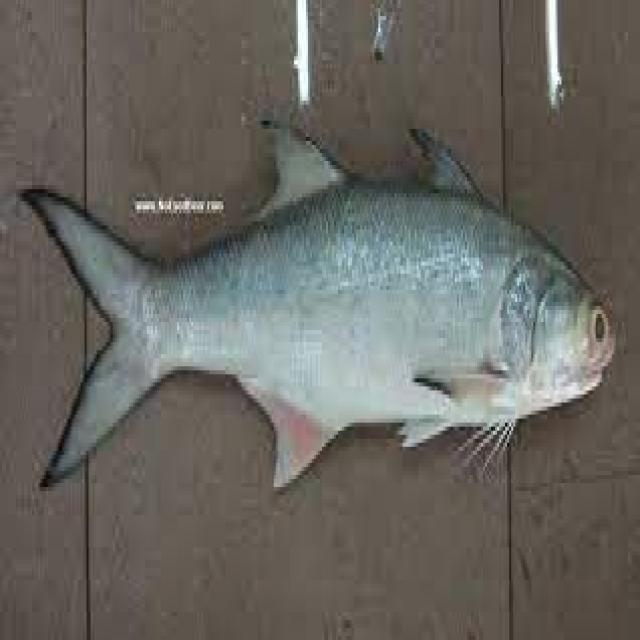Fourfinger-Threadfin: (23, 89, 632, 525)
